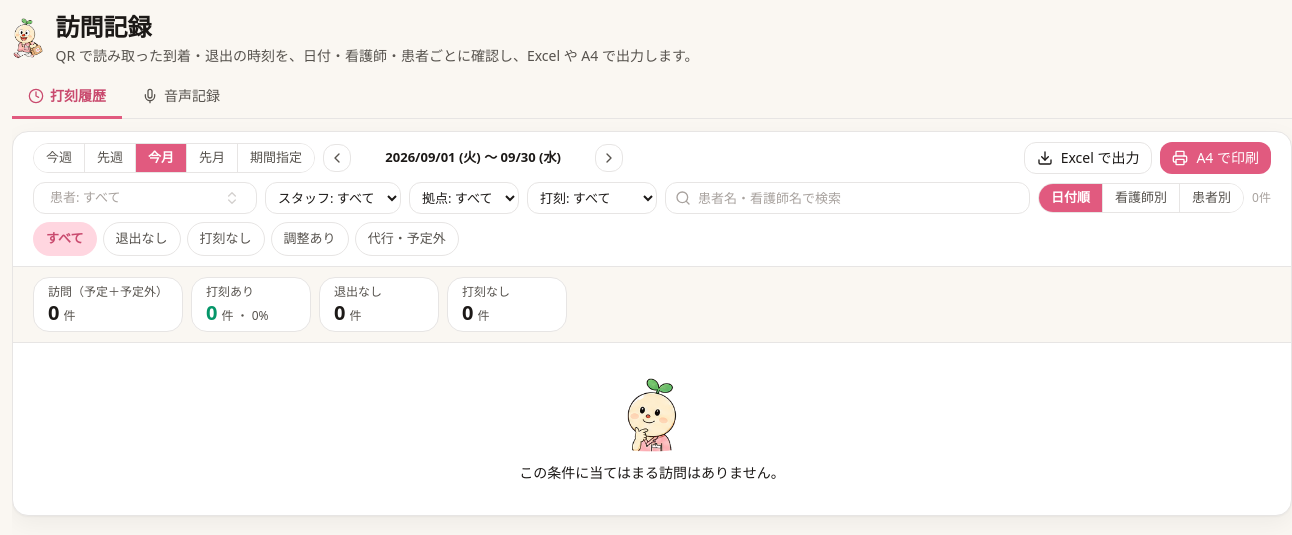
Test: RecordsPage — タブ › 見出しの説明文はタブに合わせて変わる
expect the text "QR で読み取った到着・退出の時刻を、日付・看護師・患者ごとに確認し、Excel や A4 で出力します。" is shown: met, box [56,46,698,66]
Click the tab "音声記録" at (181,98), box [126,78,236,119]
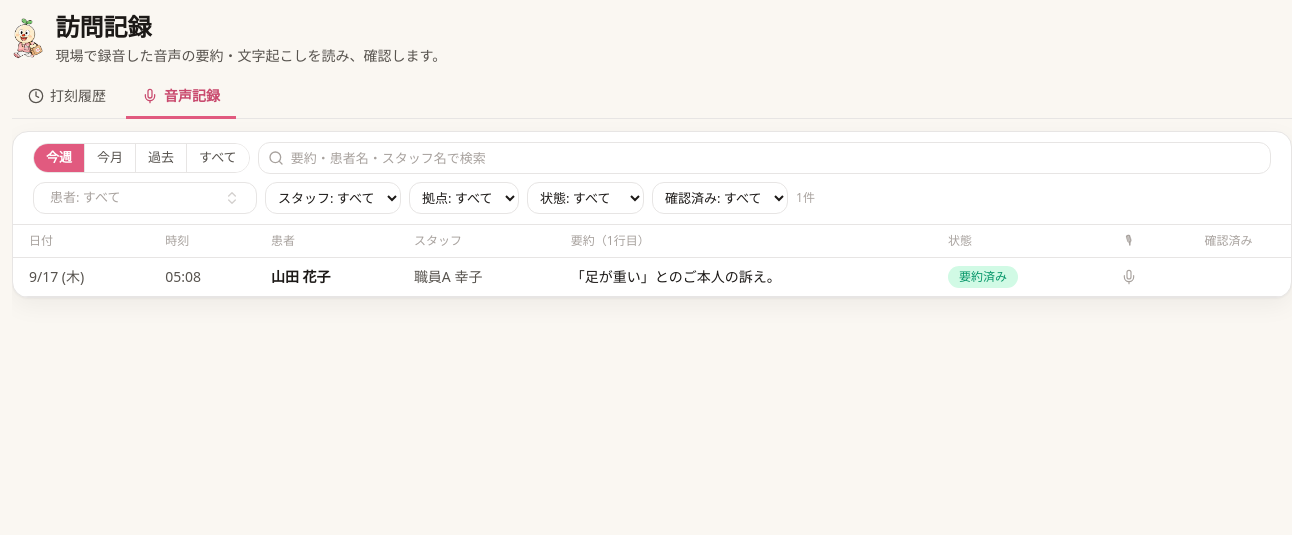
expect the text "現場で録音した音声の要約・文字起こしを読み、確認します。" is shown: met, box [56,46,446,66]
